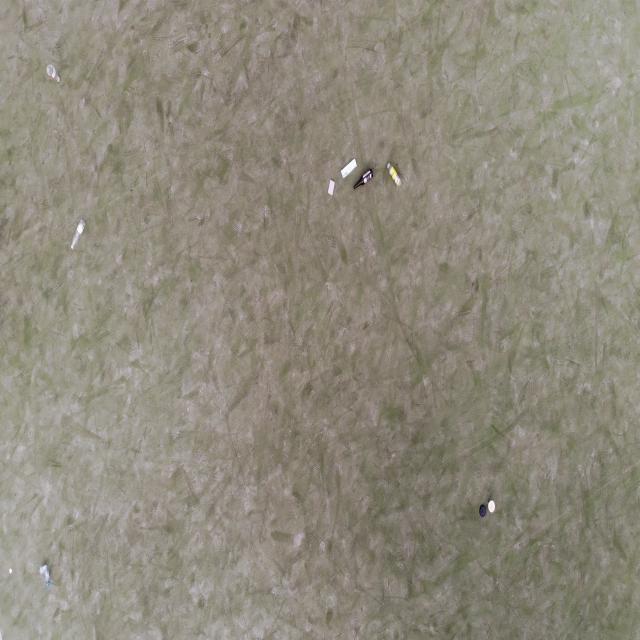rubbish: (70, 219, 87, 252), (354, 168, 375, 191), (386, 159, 402, 189), (340, 159, 357, 180), (38, 561, 52, 586), (47, 66, 62, 85), (328, 180, 336, 197), (488, 499, 496, 513), (480, 503, 486, 516), (10, 568, 12, 572)
